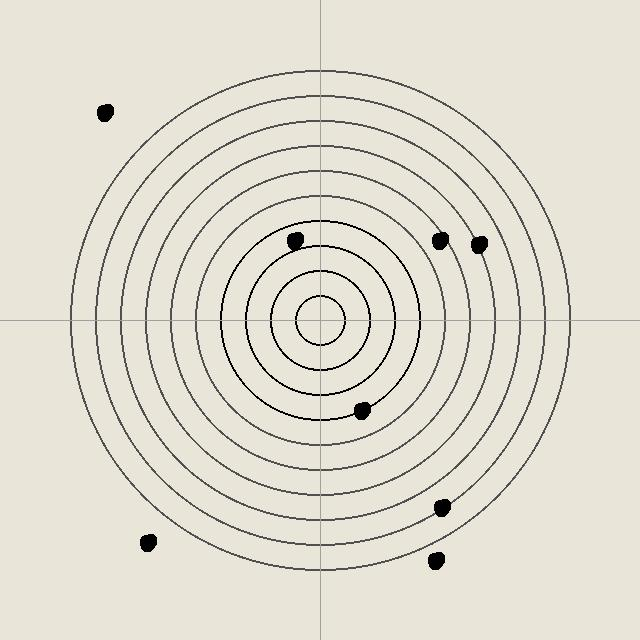random_scatter: (431, 497, 451, 517), (284, 230, 304, 250), (425, 550, 445, 570), (429, 230, 449, 250), (351, 400, 371, 420), (468, 234, 488, 254), (137, 532, 157, 552), (94, 102, 114, 122)
